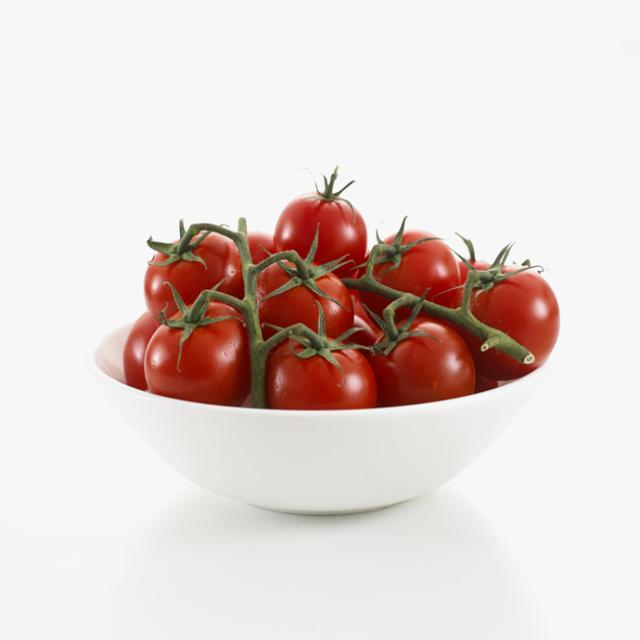kirmizi: (100, 176, 550, 426)
